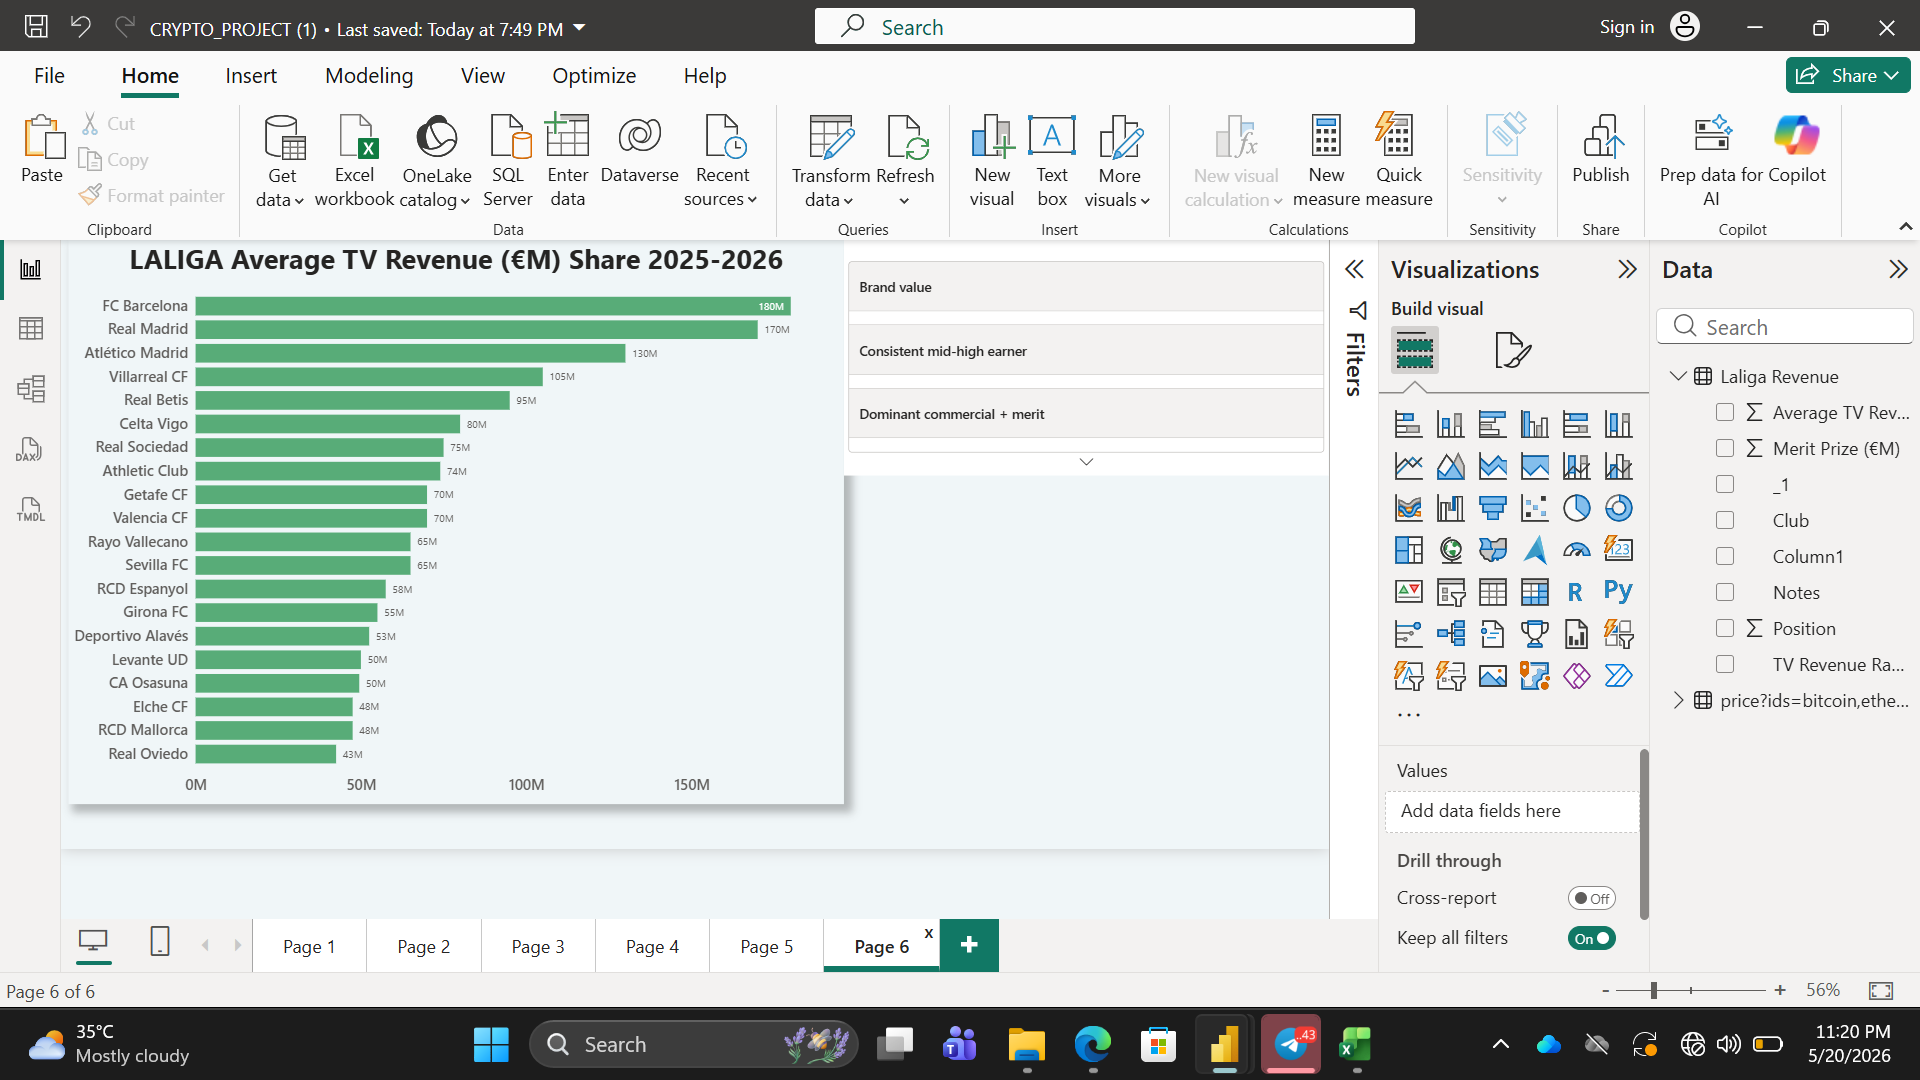

What the dashboard file says about the page in this screenshot:
{"tool":"powerbi","page":{"name":"Page 6","canvas":[1500,720],"ordinal":5},"visuals":[{"type":"clusteredBarChart","title":"LALIGA Average TV Revenue (€M)  Share 2025-2026","fields":{"Category":["Laliga Revenue.Club"],"Y":["Sum(Laliga Revenue. Average TV Revenue (€M) )"]},"box":[8.9,0,917.4,667.2],"z":0},{"type":"cardVisual","fields":{"Rows":["Laliga Revenue.Notes"]},"box":[926.3,0,573.2,278.6],"z":1}]}

Visuals, with their boxes on the page's 1500x720 design canvas (x1, y1, x2, y2). These are canvas units, not pixel positions in the 1920x1080 screenshot, which may show the page scaled, cropped or inside an application window:
"LALIGA Average TV Revenue (€M)  Share 2025-2026" clusteredBarChart: locate(9, 0, 926, 667)
cardVisual - Laliga Revenue.Notes: locate(926, 0, 1500, 279)
